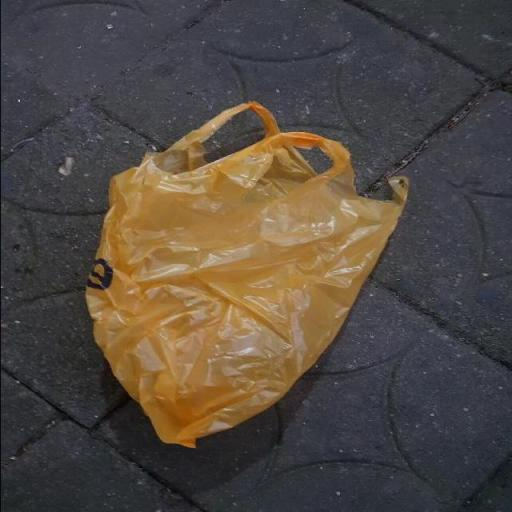plastic-bag: (82, 100, 416, 452)
